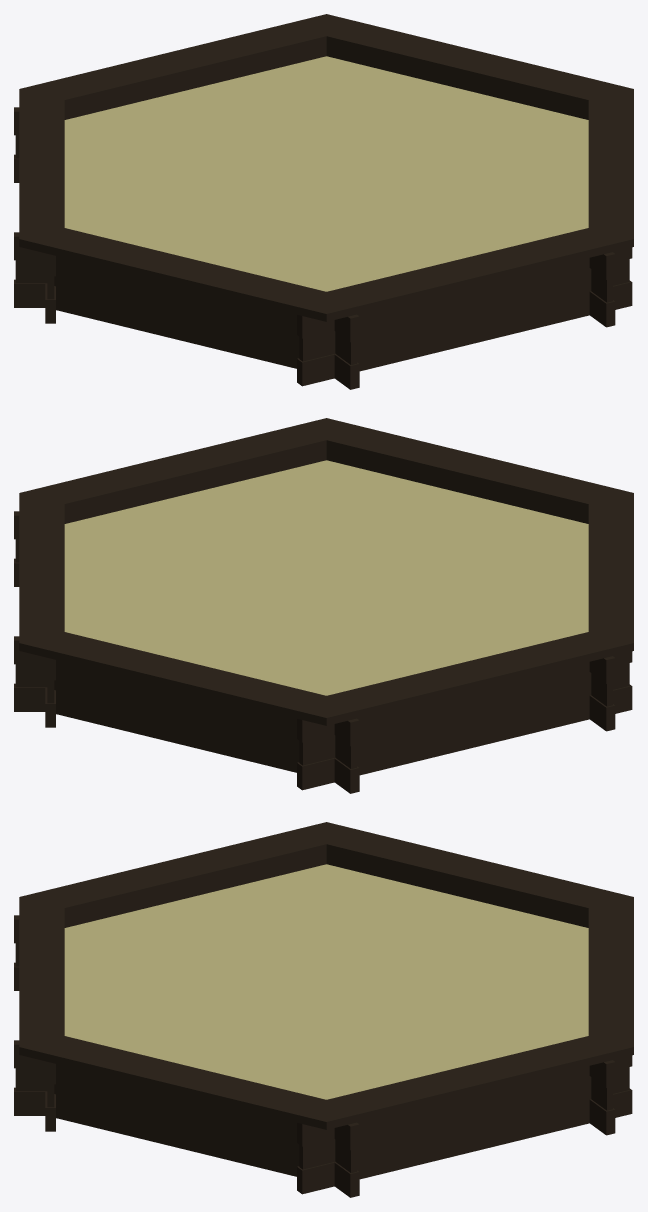
Rendered from Bac à sable.fbx.
3 views of the same model, one above another, from view 1: azimuth 30°, elevation 25°; view 2: azimuth 150°, elevation 25°; view 3: azimuth 270°, elevation 25° (orthographic).
Visible parts, largest first — view 1: Cylinder001; view 2: Cylinder001; view 3: Cylinder001.
Boxes of the visible parts, left/top/right/bottom form: Cylinder001: left=14, top=14, right=633, bottom=389; Cylinder001: left=14, top=418, right=633, bottom=793; Cylinder001: left=14, top=822, right=633, bottom=1197.
Bounding box in the file's own units: 2.03 × 0.25 × 1.77.
